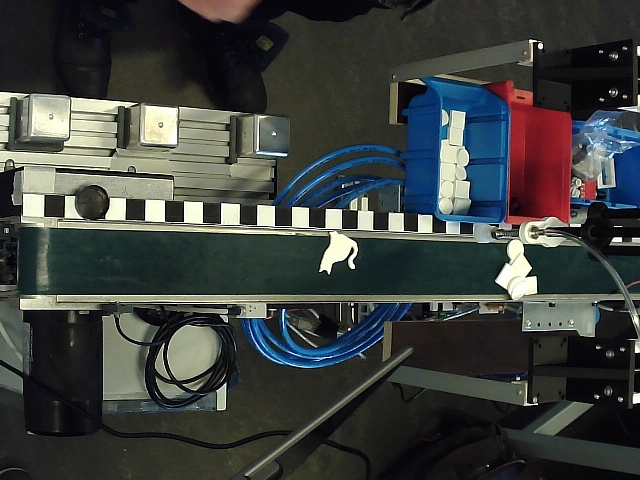cat: (318, 231, 359, 276)
